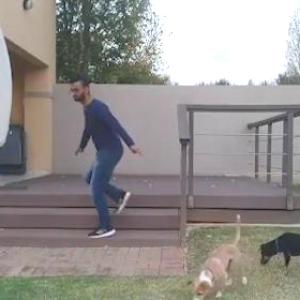land: (61, 65, 187, 248)
